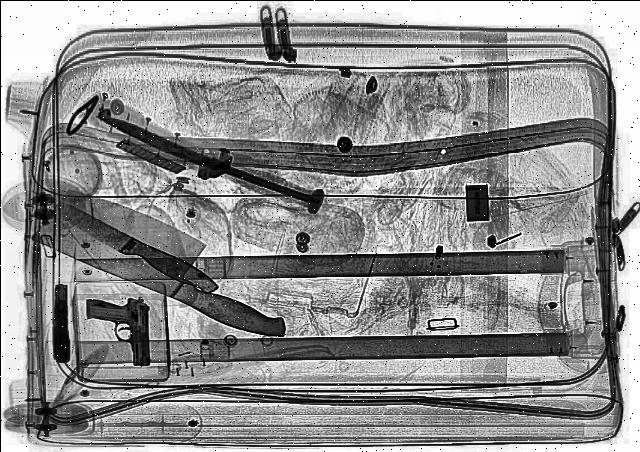Gun: (85, 295, 153, 365), (50, 281, 72, 363)
Knife: (17, 183, 330, 343), (21, 182, 227, 296), (90, 110, 322, 206)
